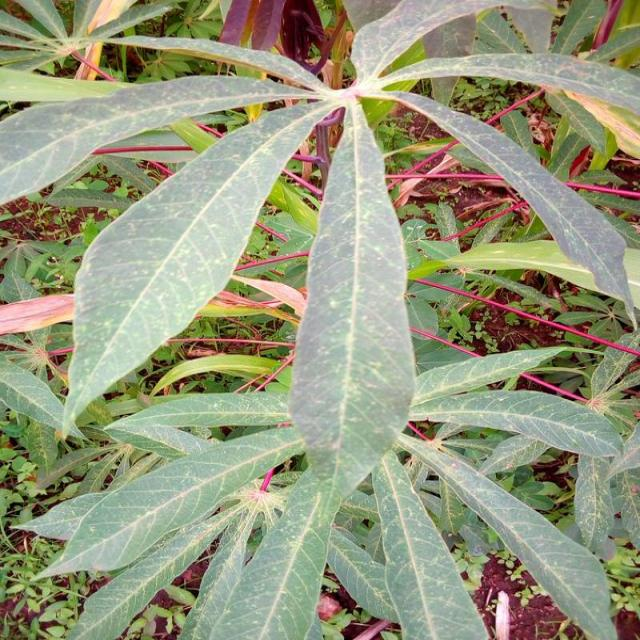cassava leaf: (3, 1, 637, 638), (206, 94, 416, 637), (59, 94, 338, 440)
